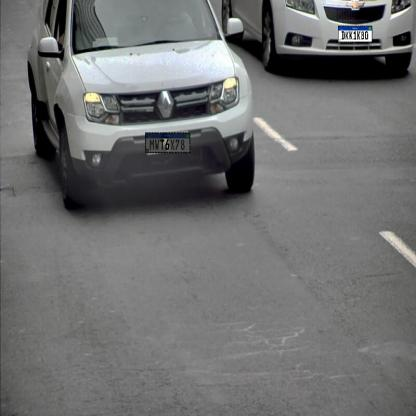PlacaM: (145, 132, 190, 154), (338, 26, 372, 42)
